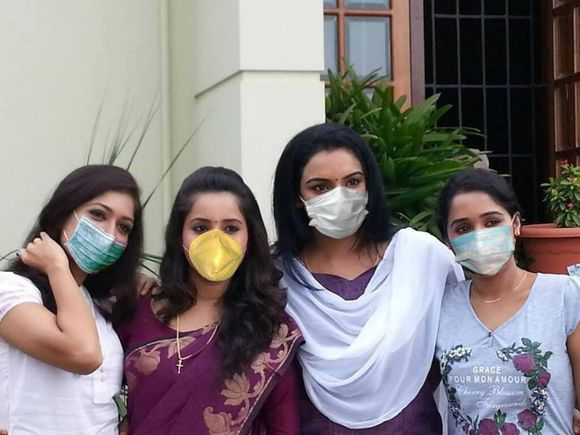face_mask: (61, 192, 135, 270), (184, 195, 248, 282), (306, 152, 369, 237), (447, 196, 515, 273)
